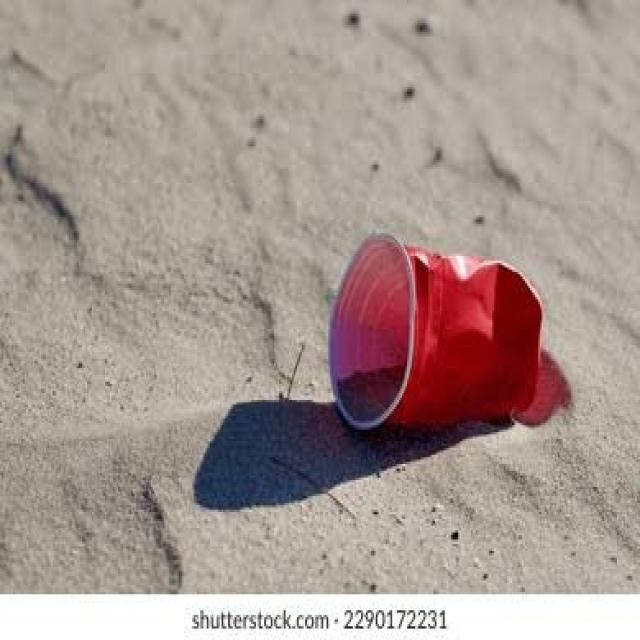plastic: (319, 212, 566, 450)
